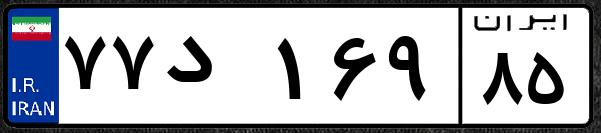1: (270, 28, 330, 110)
5: (525, 38, 570, 115)
6: (330, 28, 385, 110)
7: (57, 26, 110, 100), (110, 28, 158, 98)
8: (475, 38, 525, 113)
9: (385, 28, 445, 110)
د: (158, 20, 270, 120)
